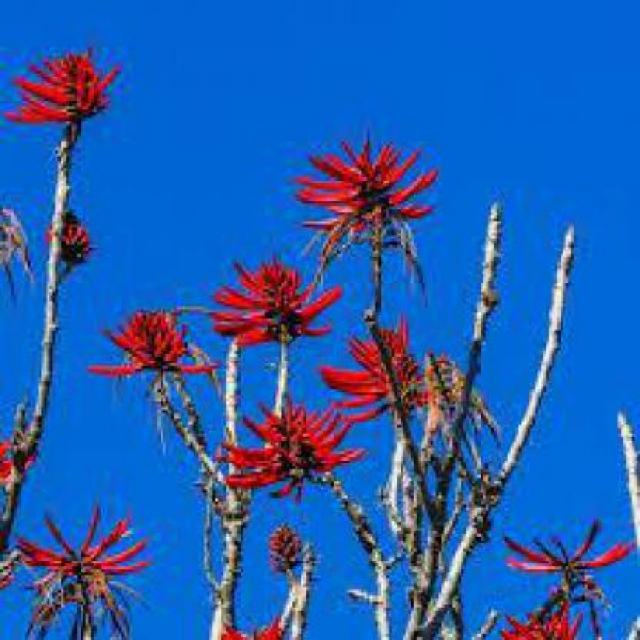flower: (303, 137, 452, 275), (228, 394, 349, 509), (330, 322, 448, 431), (201, 255, 337, 347), (74, 292, 201, 390), (508, 526, 622, 632), (16, 52, 130, 128)
